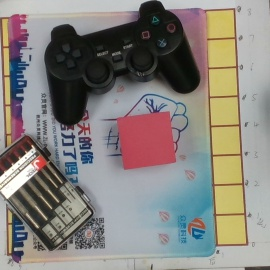remote: (45, 1, 201, 123)
